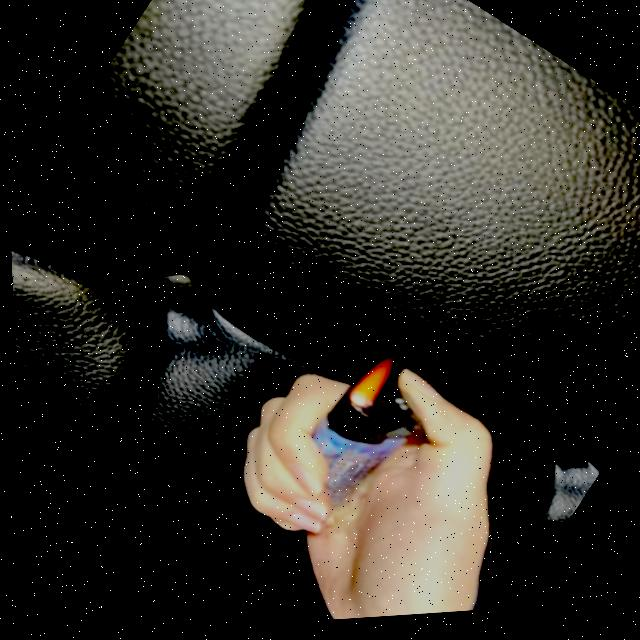Fire: (336, 350, 402, 425)
